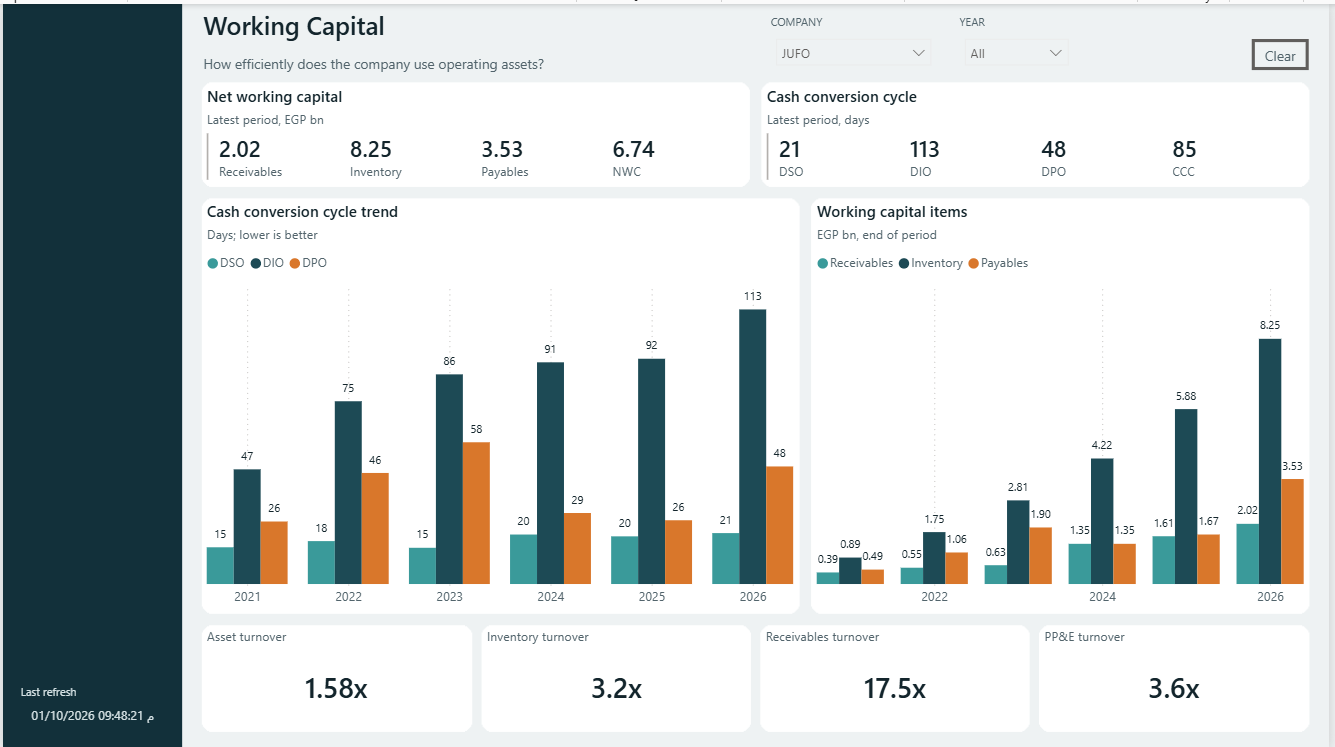

What the dashboard file says about the page in this screenshot:
{"tool":"powerbi","page":{"name":"Working Capital","canvas":[1280,720],"ordinal":4},"visuals":[{"type":"multiRowCard","title":"Net working capital","fields":{"Values":["Measures List.AR (card)","Measures List.Inventory (card)","Measures List.AP (card)","Measures List.Net Working Capital (card)"]},"box":[192,78,528,100],"z":10},{"type":"multiRowCard","title":"Cash conversion cycle","fields":{"Values":["Measures List.DSO (card)","Measures List.DIO (card)","Measures List.DPO (card)","Measures List.CCC (card)"]},"box":[732,78,528,100],"z":11},{"type":"card","title":"Asset turnover","fields":{"Values":["Measures List.Asset Turnover (ann.) (card)"]},"box":[192,602,260,102],"z":12},{"type":"card","title":"Inventory turnover","fields":{"Values":["Measures List.Inventory Turnover (ann.) (card)"]},"box":[462,602,260,102],"z":13},{"type":"card","title":"Receivables turnover","fields":{"Values":["Measures List.Receivables Turnover (ann.) (card)"]},"box":[731,602,260,102],"z":14},{"type":"card","title":"PP&E turnover","fields":{"Values":["Measures List.PP&E Turnover (ann.) (card)"]},"box":[1000,602,260,102],"z":15},{"type":"clusteredColumnChart","title":"Cash conversion cycle trend","fields":{"Category":["DimDate.Year"],"Y":["Measures List.DSO (chart)","Measures List.DIO (chart)","Measures List.DPO (chart)"]},"box":[192,190,576,400],"z":20},{"type":"clusteredColumnChart","title":"Working capital items","fields":{"Category":["DimDate.Year"],"Y":["Measures List.AR (chart)","Measures List.Inventory (chart)","Measures List.AP (chart)"]},"box":[780,190,480,400],"z":21},{"type":"pageNavigator","box":[12,38,150,270],"z":50},{"type":"card","title":"Last refresh","fields":{"Values":["Max(Last Refreash.Date)"]},"box":[12,656,150,52],"z":51},{"type":"textbox","box":[188,0,540,46],"z":52},{"type":"textbox","box":[188,44,540,30],"z":53},{"type":"slicer","title":"COMPANY","fields":{"Values":["FactFinancials.Company"]},"box":[736,10,170,56],"z":54},{"type":"slicer","title":"YEAR","fields":{"Values":["DimDate.Year"]},"box":[918,10,120,56],"z":55},{"type":"actionButton","box":[1205,34,55,30],"z":56}]}

Visuals, with their boxes in screenshot pixels (x1, y1, x2, y2), scaled from the page's 1280x720 canvas onto the 1335x747 screenshot:
"Net working capital" multiRowCard: (x1=200, y1=81, x2=751, y2=185)
"Cash conversion cycle" multiRowCard: (x1=763, y1=81, x2=1314, y2=185)
"Asset turnover" card: (x1=200, y1=625, x2=471, y2=730)
"Inventory turnover" card: (x1=482, y1=625, x2=753, y2=730)
"Receivables turnover" card: (x1=762, y1=625, x2=1034, y2=730)
"PP&E turnover" card: (x1=1043, y1=625, x2=1314, y2=730)
"Cash conversion cycle trend" clusteredColumnChart: (x1=200, y1=197, x2=801, y2=612)
"Working capital items" clusteredColumnChart: (x1=814, y1=197, x2=1314, y2=612)
pageNavigator: (x1=13, y1=39, x2=169, y2=320)
"Last refresh" card: (x1=13, y1=681, x2=169, y2=735)
textbox: (x1=196, y1=0, x2=759, y2=48)
textbox: (x1=196, y1=46, x2=759, y2=77)
"COMPANY" slicer: (x1=768, y1=10, x2=945, y2=68)
"YEAR" slicer: (x1=957, y1=10, x2=1083, y2=68)
actionButton: (x1=1257, y1=35, x2=1314, y2=66)
